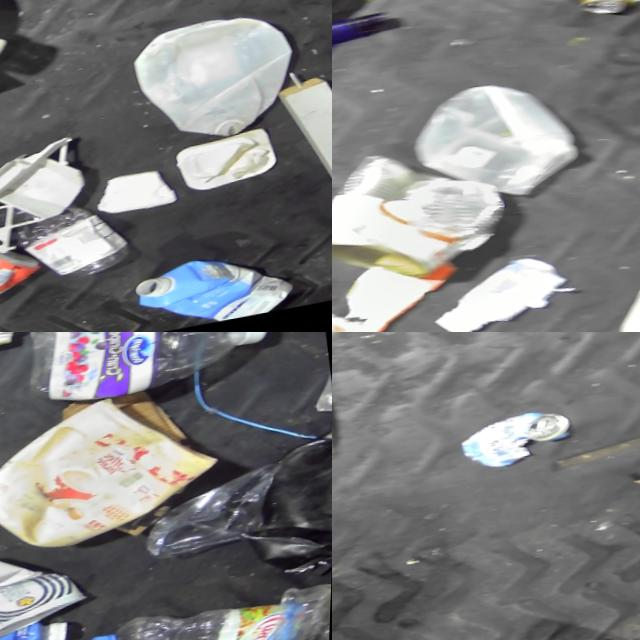can: (332, 133, 527, 298), (453, 398, 587, 483), (564, 0, 640, 27)
milk_jug: (125, 6, 305, 151)
non_white_jug: (0, 383, 222, 562)
plastic_bottle: (83, 597, 304, 640)
